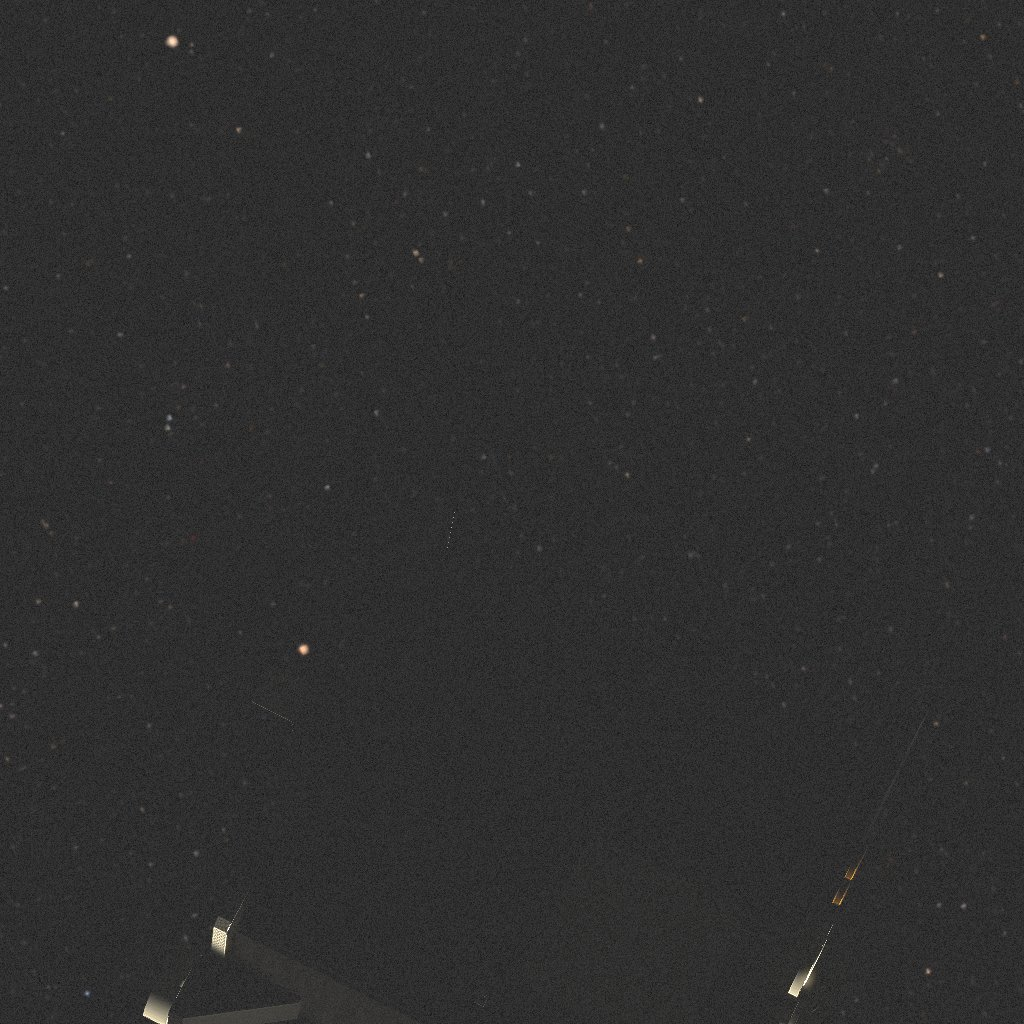proba_3_ocs: (143, 505, 930, 1024)
